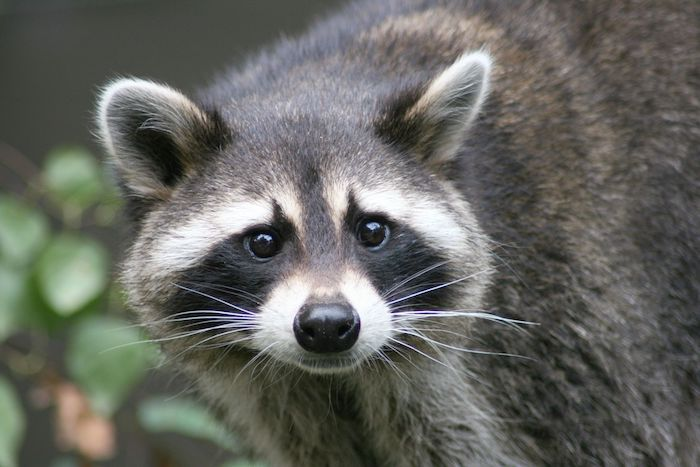raccoon: (85, 13, 667, 467)
